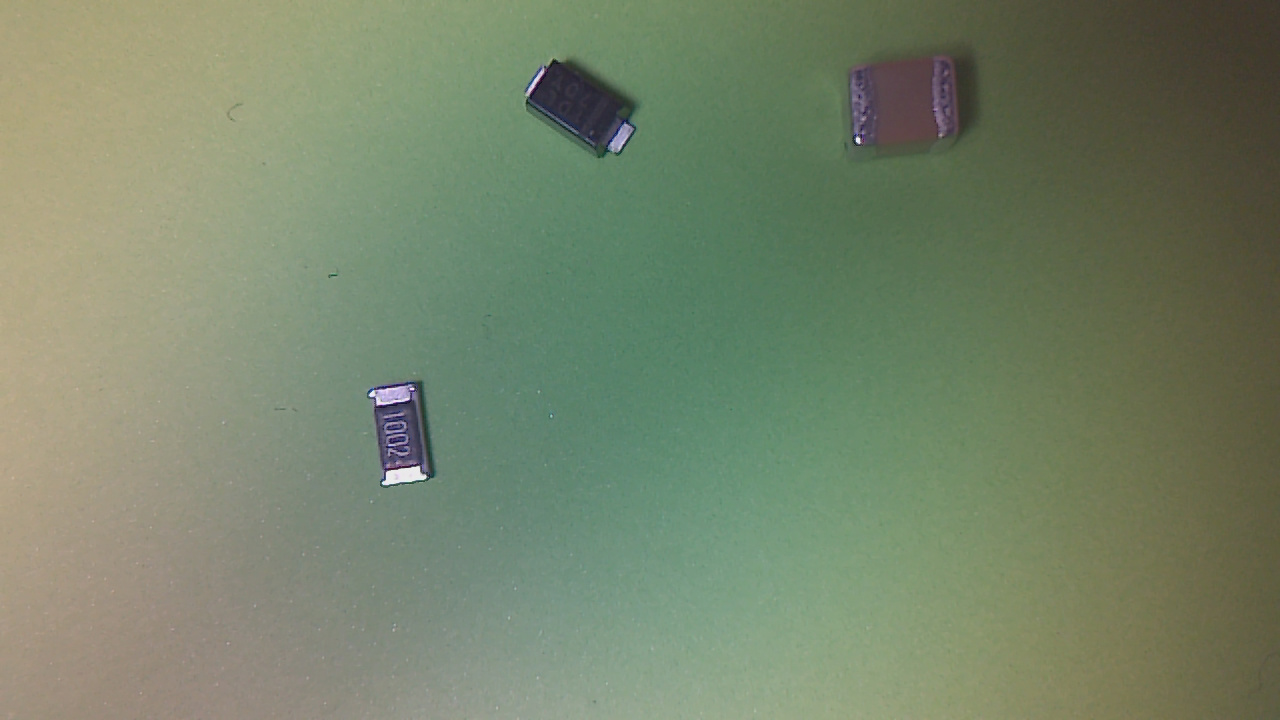Condensator: (847, 60, 965, 154)
Diode: (524, 63, 648, 167)
Resistor: (369, 386, 440, 493)
